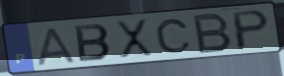A: (36, 25, 78, 67)
B: (191, 11, 234, 55), (72, 23, 114, 64)
C: (153, 18, 194, 55)
P: (231, 8, 272, 52)
X: (114, 18, 156, 60)
